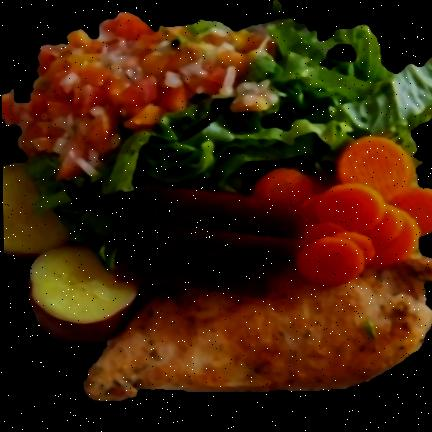beet: (117, 182, 307, 297)
carrot: (253, 137, 432, 285)
chicken: (84, 255, 432, 401)
potato: (2, 163, 140, 341)
salad: (29, 20, 432, 267)
